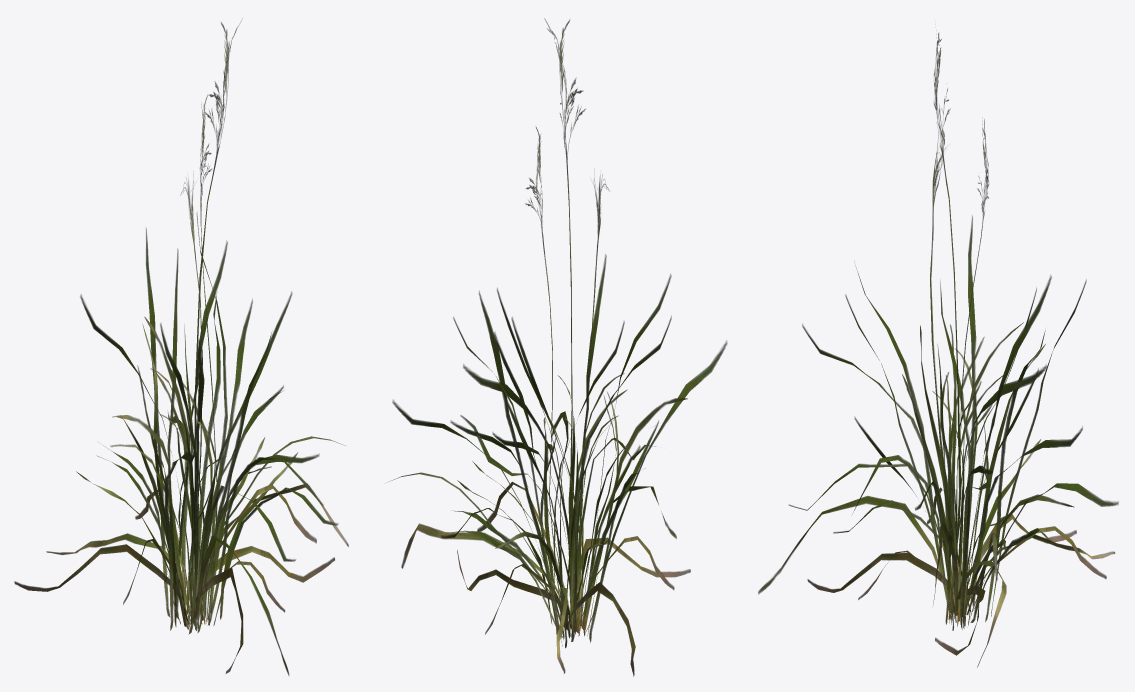
Rendered from grass_tall_d.glb.
3 renders of one model, left to right at view 1: azimuth 30°, elevation 25°; view 2: azimuth 150°, elevation 25°; view 3: azimuth 270°, elevation 25°, orthographic.
Parts seen in each view (by area): view 1: grass_medium_01_mid_b_LOD0.001; view 2: grass_medium_01_mid_b_LOD0.001; view 3: grass_medium_01_mid_b_LOD0.001.
Part boxes in pixels (x1,y1,x2,y2): grass_medium_01_mid_b_LOD0.001: [14, 20, 348, 675]; grass_medium_01_mid_b_LOD0.001: [387, 18, 727, 676]; grass_medium_01_mid_b_LOD0.001: [758, 33, 1118, 667].
Size of the model in its own units: 2.17 by 4.37 by 2.33.
1 material, 1 textured.
